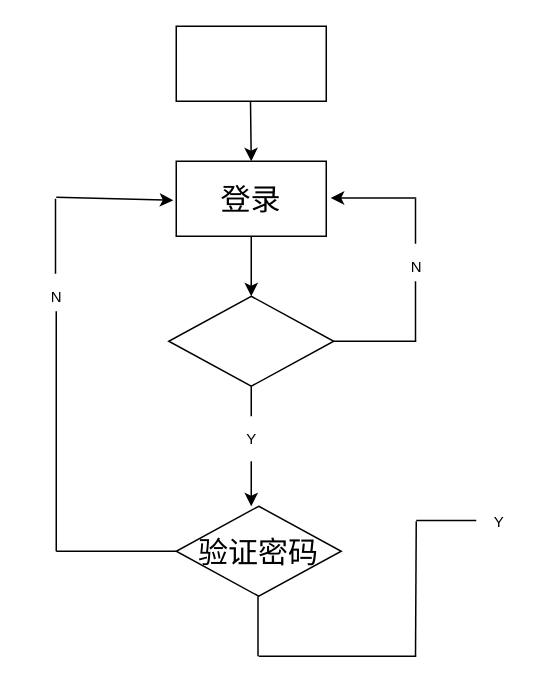
Image size: 546x684. Some labels were removed from this diagram. The shapes that lost their labels are listed below. From the top down, each one's centre as x and y in pixels, then its label:
At (250,63): "注册".
At (250,340): "验证账号".
